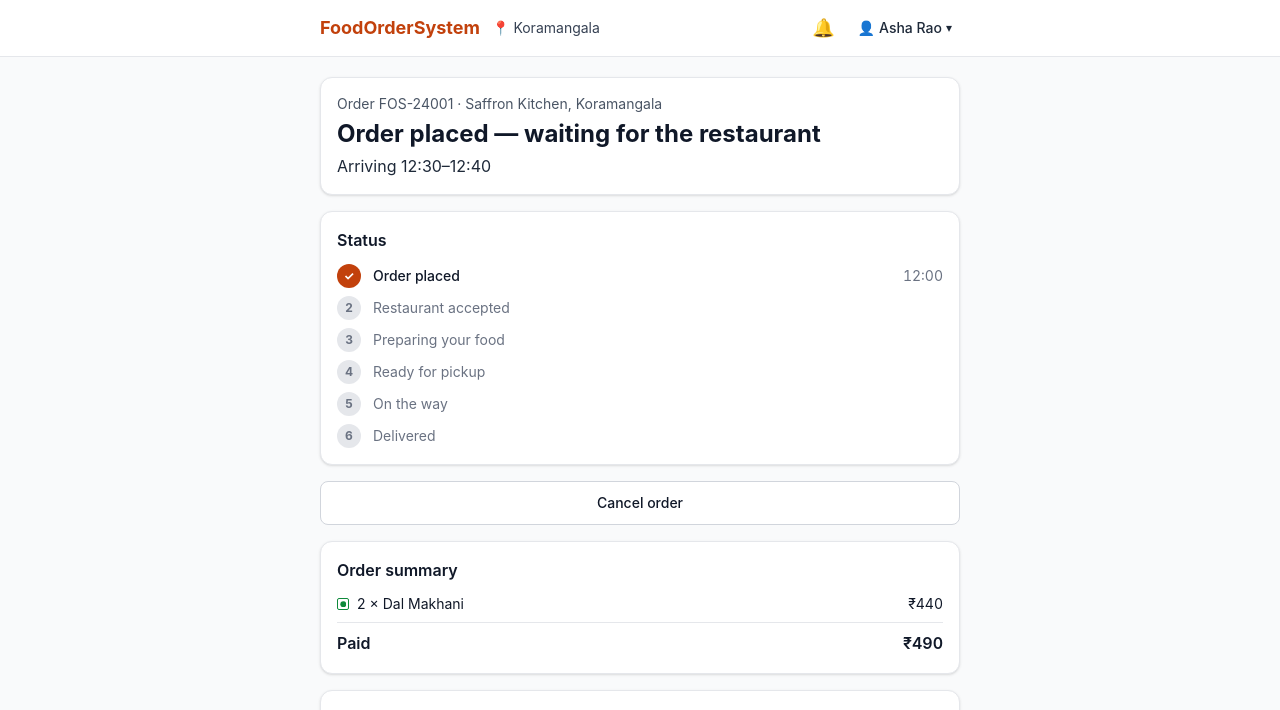
Test: customer ordering journey › previews the fee, then cancels an order
Click the button "Cancel order" at (640, 503), box [320,481,960,525]
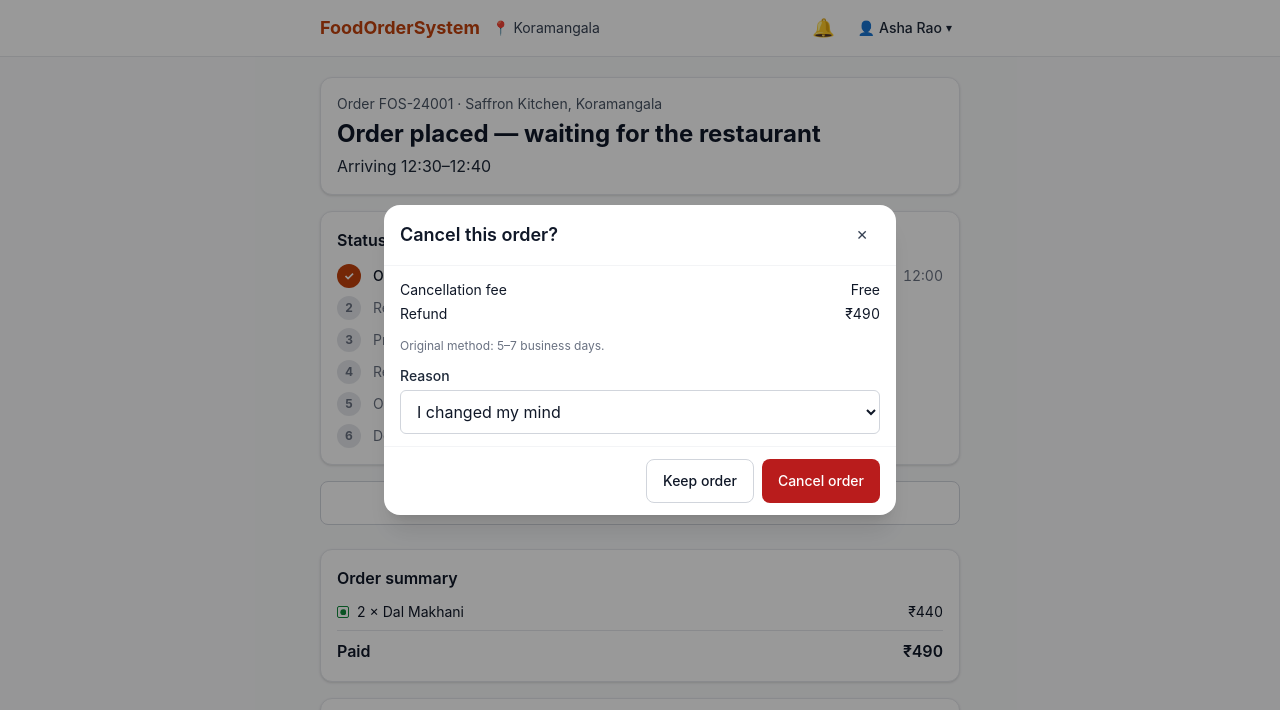
Result: the text "Free" is shown at [851,280,880,300]
Select "I ordered by mistake" in the dropdown labelled "Reason" at (640, 412), box [400,390,880,434]
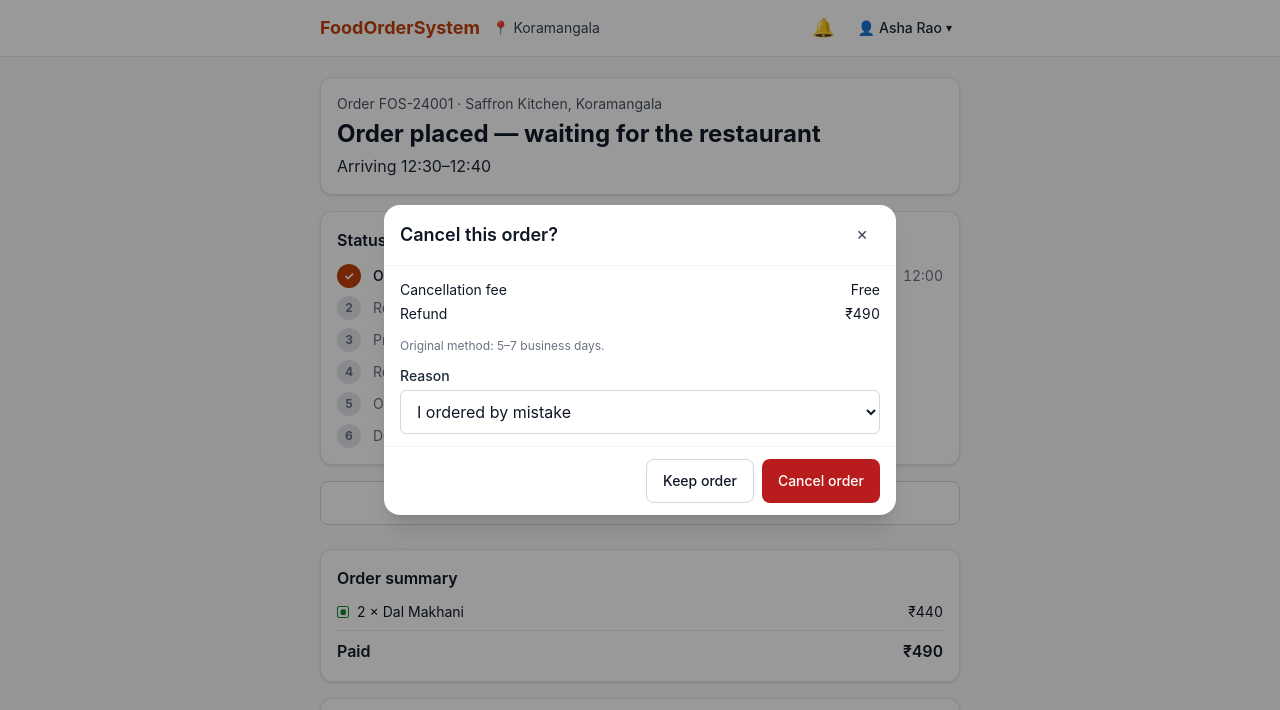
Click the button "Cancel order" below "Original method: 5–7 business days." at (821, 481), box [762,459,880,503]
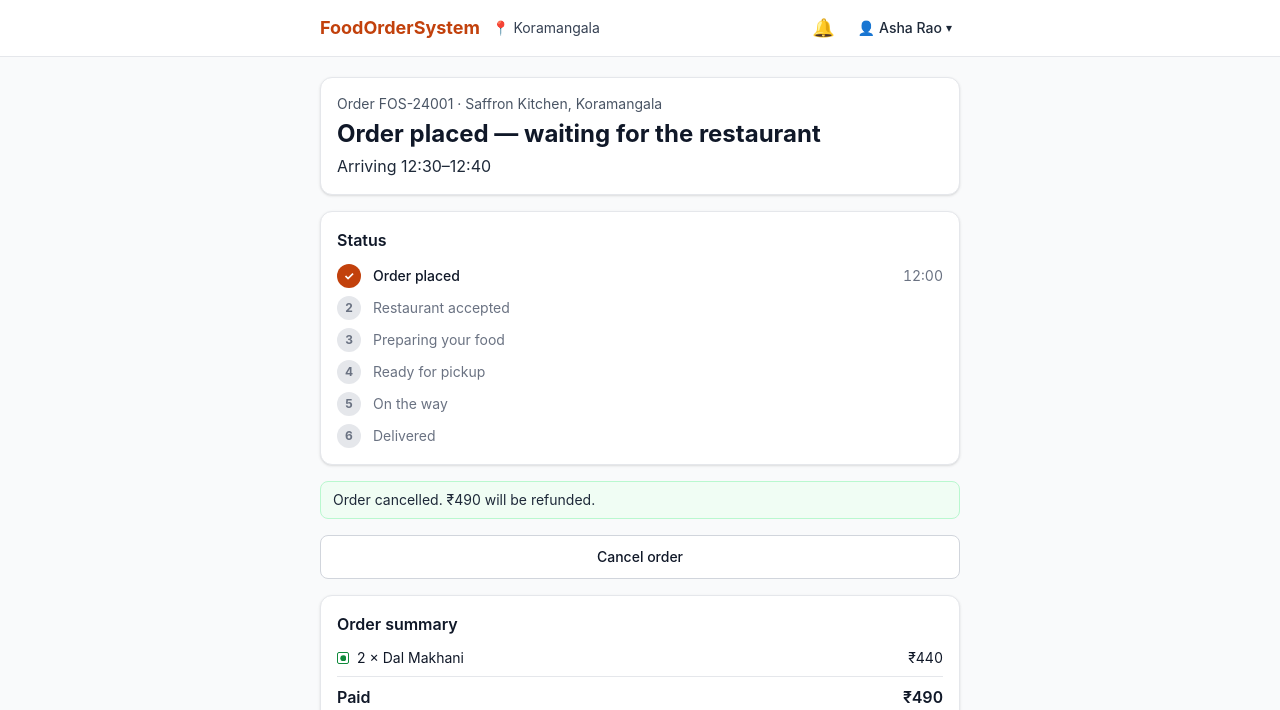
Result: the text "Order cancelled. ₹490 will be refunded." is shown at [333,491,595,508]
